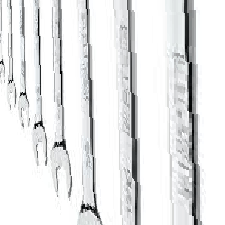Wrench: (1, 2, 215, 225)
